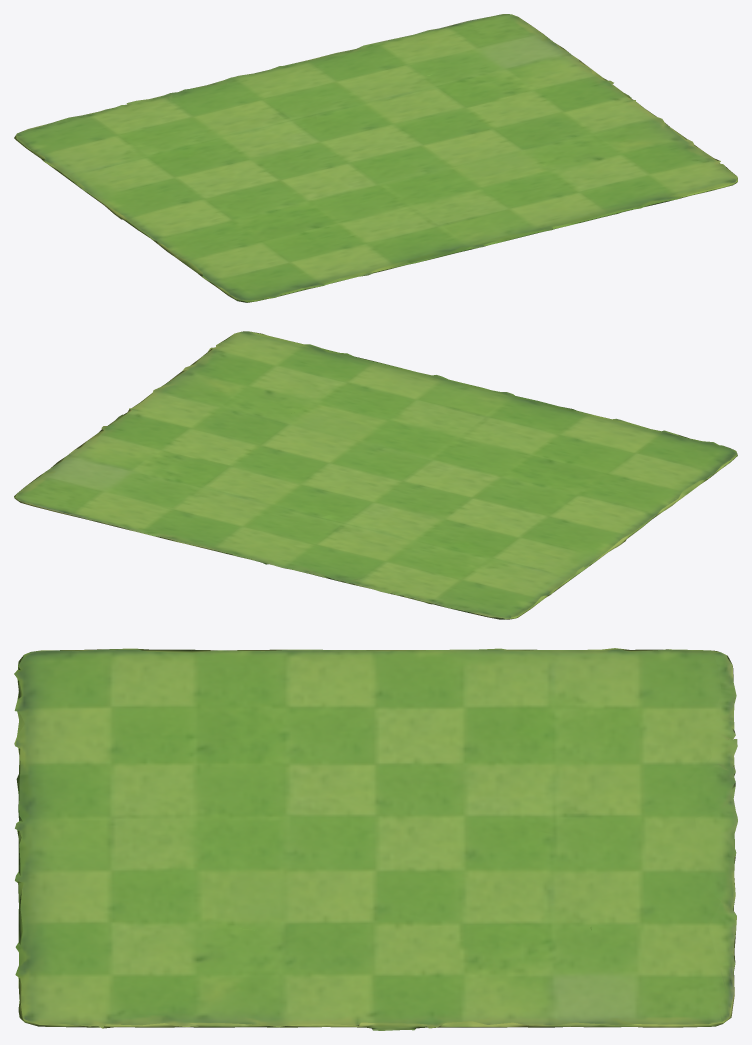
Rendered from ENV-02.glb.
The picture shows the model from 3 angles, top to bottom: view 1: azimuth 30°, elevation 25°; view 2: azimuth 150°, elevation 25°; view 3: azimuth 270°, elevation 25°; orthographic projection. The views are drawn at different scales.
Parts seen in each view (by area): view 1: ENV-02; view 2: ENV-02; view 3: ENV-02.
Boxes of the visible parts, left/top/right/bottom form: ENV-02: left=14, top=14, right=737, bottom=302; ENV-02: left=14, top=331, right=737, bottom=619; ENV-02: left=14, top=648, right=737, bottom=1030.
Size of the model in its own units: 18 by 0.12 by 14.5.
1 material, 1 textured.
